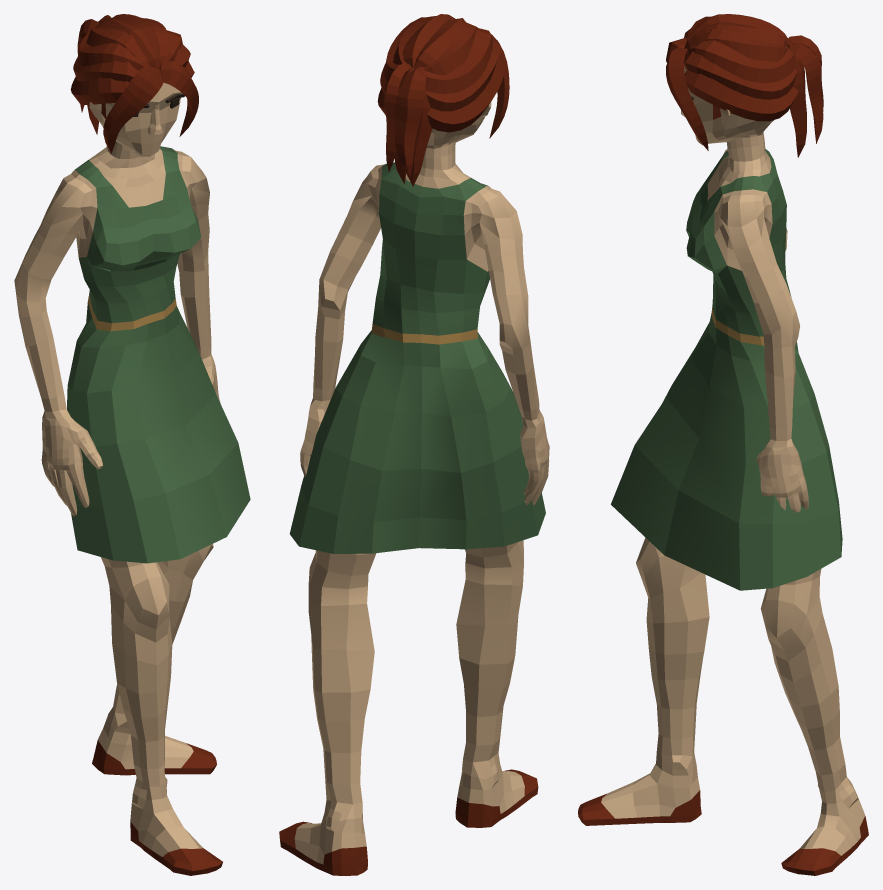
Rendered from civilian-woman-2.glb.
3 views of the same model, side by side, from view 1: azimuth 30°, elevation 25°; view 2: azimuth 150°, elevation 25°; view 3: azimuth 270°, elevation 25° (orthographic). The views are drawn at different scales.
Visible parts, largest first — view 1: Formal_Legs, Formal_Body, Formad_Head, Formal_Feet; view 2: Formal_Legs, Formal_Body, Formad_Head, Formal_Feet; view 3: Formal_Legs, Formal_Body, Formad_Head, Formal_Feet.
Part boxes in pixels (x1,y1,x2,y2): Formal_Legs: [67, 315, 250, 769]; Formal_Body: [14, 146, 220, 516]; Formad_Head: [70, 14, 198, 158]; Formal_Feet: [92, 689, 222, 875]; Formal_Legs: [289, 344, 545, 784]; Formal_Body: [300, 162, 549, 505]; Formad_Head: [377, 14, 509, 186]; Formal_Feet: [279, 737, 538, 875]; Formal_Legs: [611, 322, 845, 775]; Formal_Body: [686, 149, 808, 512]; Formad_Head: [666, 14, 823, 161]; Formal_Feet: [578, 733, 868, 875].
Size of the model in its own units: 0.5344 by 1.8 by 0.5933.
